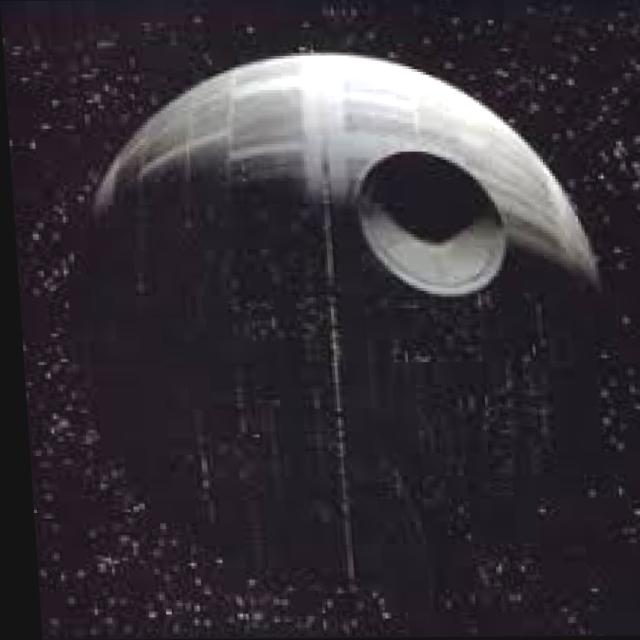deathStar: (50, 48, 607, 580)
